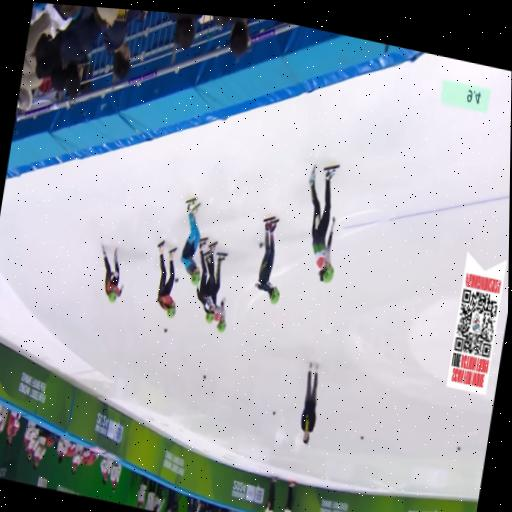Skater: (310, 165, 338, 282), (256, 217, 279, 303), (197, 237, 217, 322), (181, 198, 200, 284), (158, 240, 176, 317), (212, 252, 227, 332), (102, 246, 123, 302)
